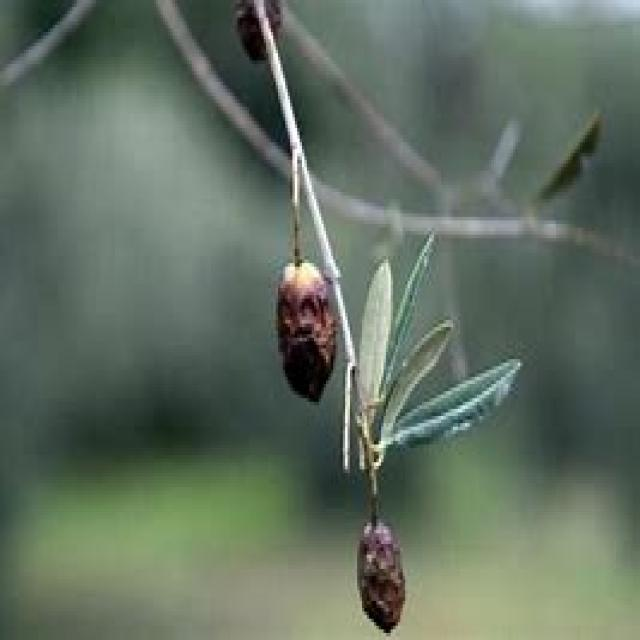Anthracnose: (276, 256, 336, 401), (357, 519, 405, 633)
